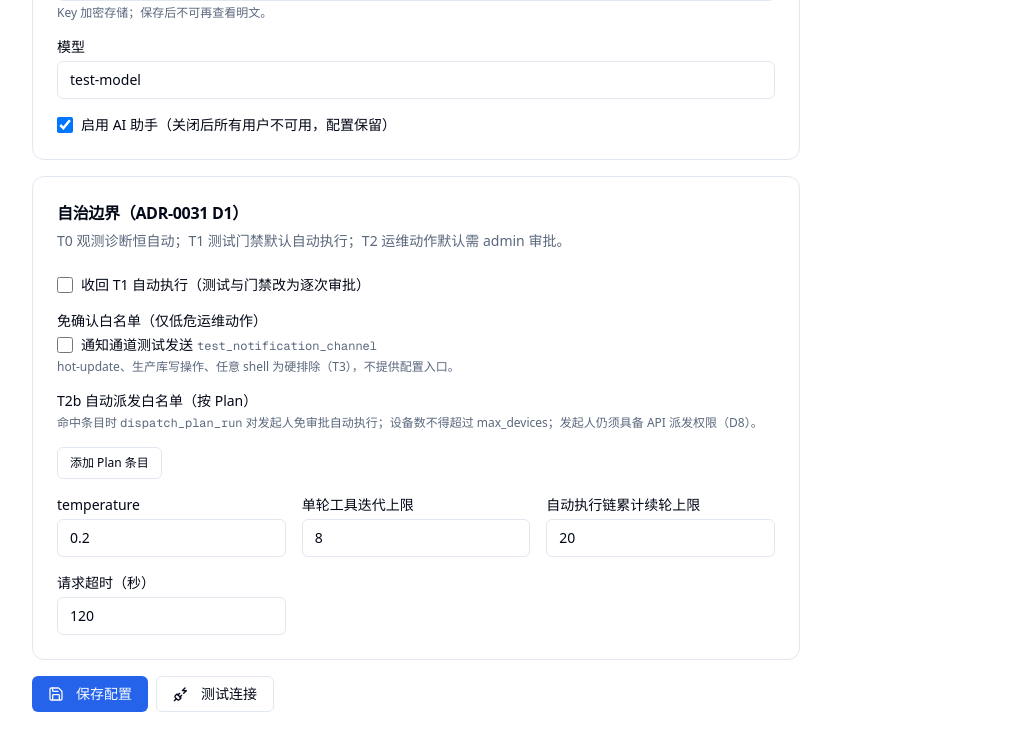
Test: AiAssistantSettingsPage › 测试连接成功展示延迟结果
(page scrolled)
Click the button "测试连接": [215, 694] box [156, 676, 274, 712]
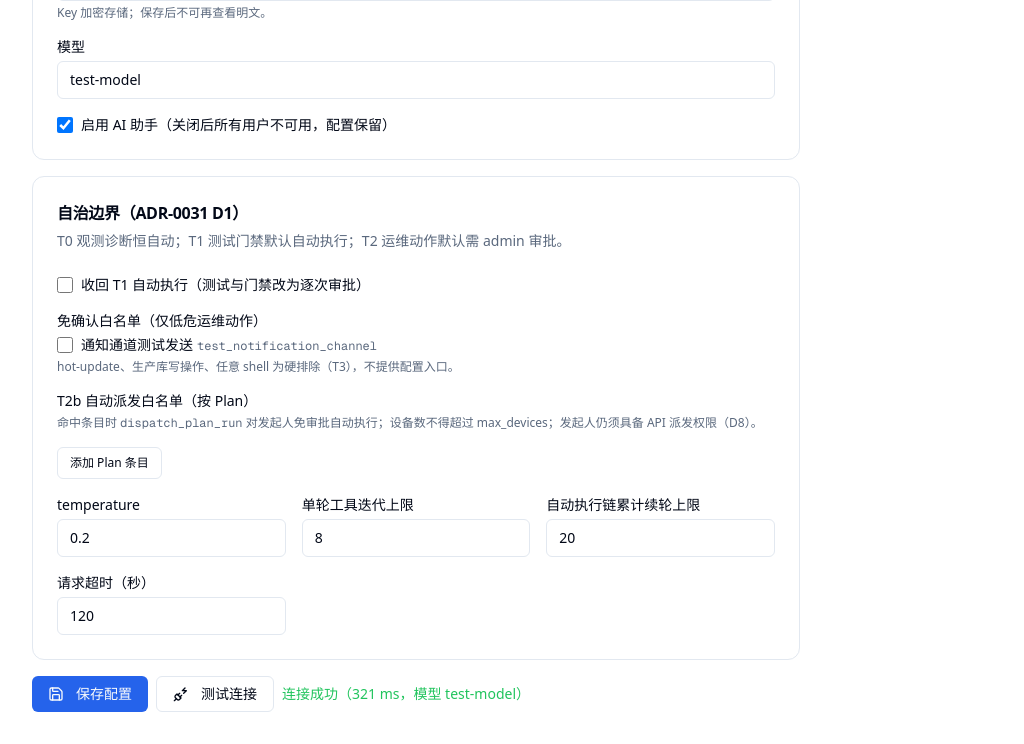
Check: the text "连接成功（321 ms，模型 test-model）" is shown, box [282, 684, 530, 704]
